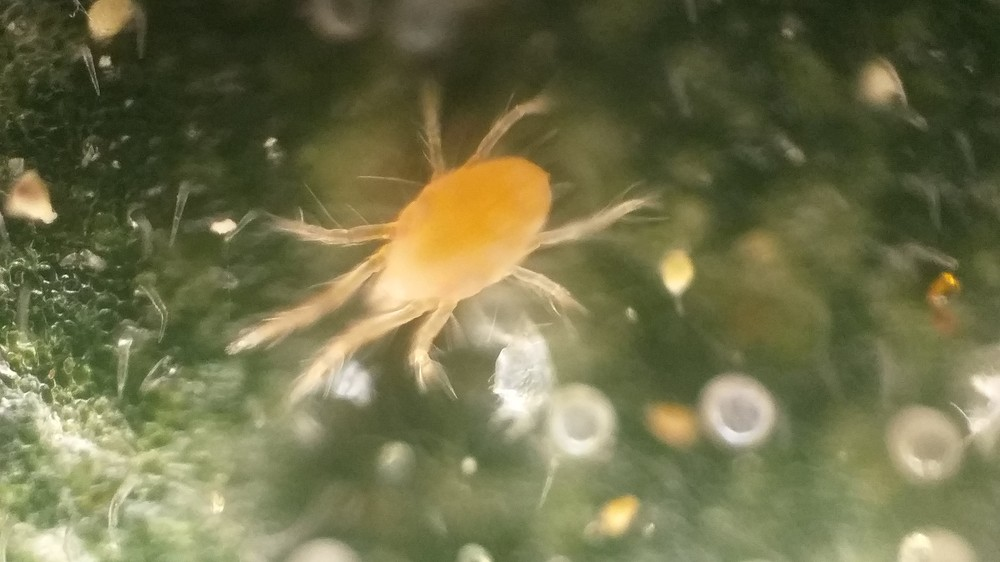Aracnido Rojo: (202, 70, 703, 403)
